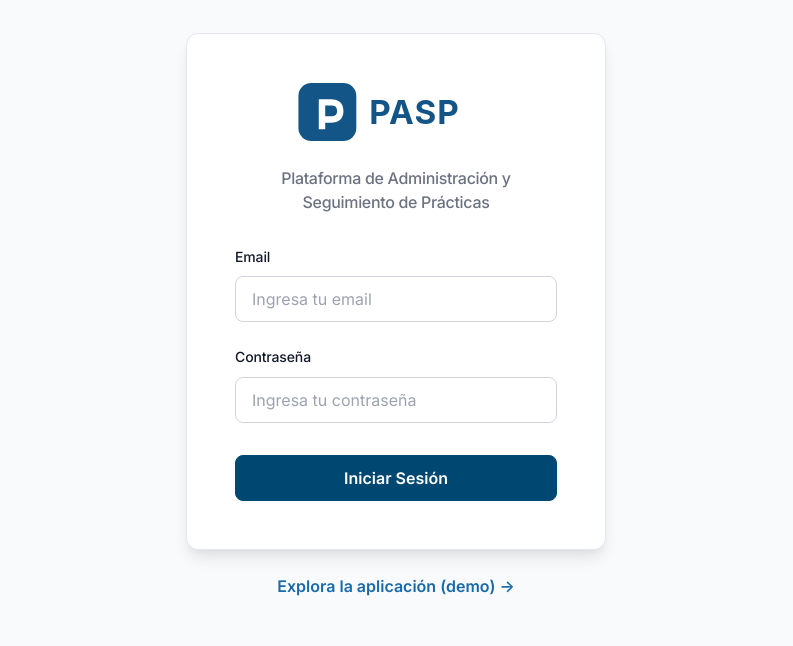
Login › muestra los accesos demo en el orden solicitado
Click the button "Explora la aplicación (demo) →": (396, 586) [269, 566, 523, 607]
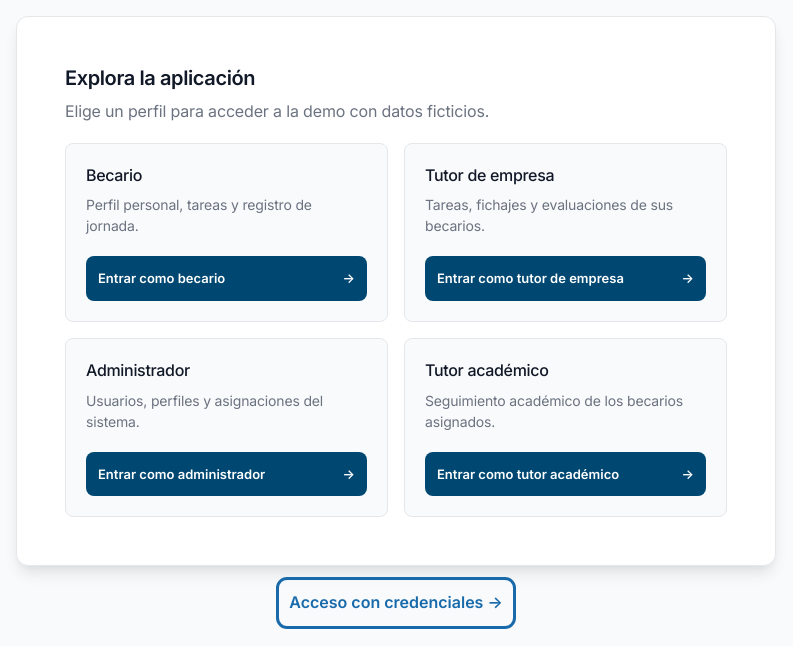
Now the headings read "Becario", "Tutor de empresa", "Administrador", "Tutor académico", in this order, box [86, 165, 142, 185]; [425, 165, 554, 185]; [86, 360, 190, 380]; [425, 360, 548, 380]
